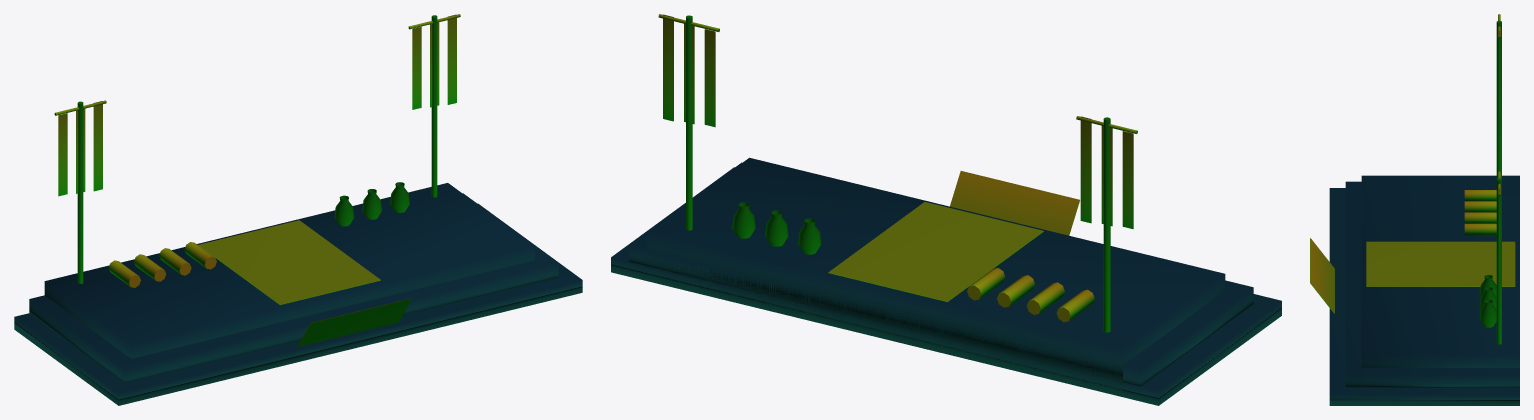
File: wedding_dais.glb
3 renders of one model, left to right at view 1: azimuth 30°, elevation 25°; view 2: azimuth 150°, elevation 25°; view 3: azimuth 270°, elevation 25°, orthographic. The views are drawn at different scales.
Parts seen in each view (by area): view 1: wedding_dais; view 2: wedding_dais; view 3: wedding_dais.
Boxes of the visible parts, x1,y1,x2,y2 form: wedding_dais: (14, 14, 582, 405); wedding_dais: (611, 14, 1281, 405); wedding_dais: (1310, 14, 1519, 405).
Size of what is drawn, in the model's own units: 9.17 by 4.29 by 3.94.
